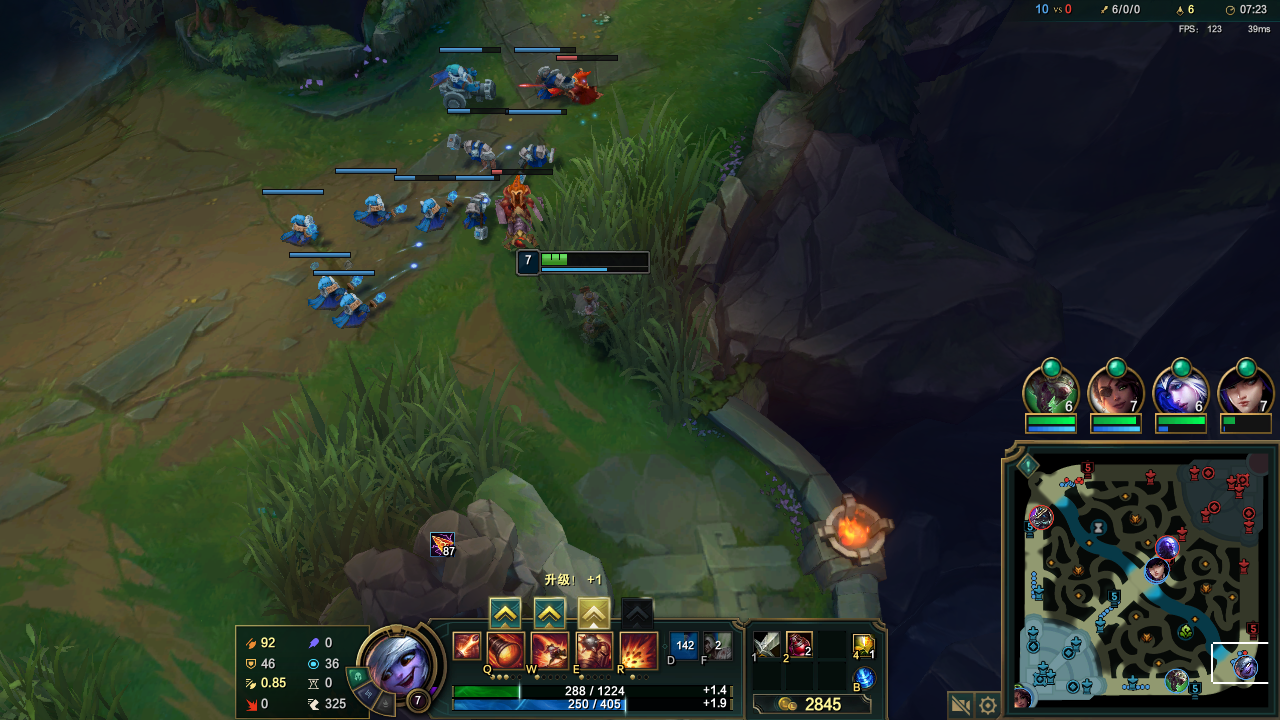DFXB: (492, 178, 555, 251), (567, 66, 608, 110)
Tuijianshengji: (579, 600, 618, 629)
WFXB: (420, 62, 504, 112), (308, 270, 380, 319), (333, 287, 396, 332), (459, 181, 507, 240), (443, 127, 499, 174), (351, 189, 408, 232), (413, 187, 462, 236), (276, 209, 328, 255), (507, 134, 563, 176), (526, 64, 579, 101)
Yita: (1188, 675, 1203, 701)
